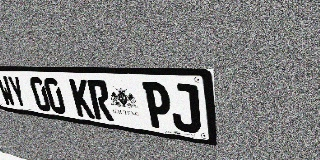0: (42, 78, 67, 114), (28, 77, 52, 112)
J: (169, 83, 201, 134)
K: (69, 79, 95, 119)
P: (142, 82, 173, 130)
R: (87, 79, 114, 121)
W: (0, 76, 17, 107)
Y: (7, 76, 29, 109)
